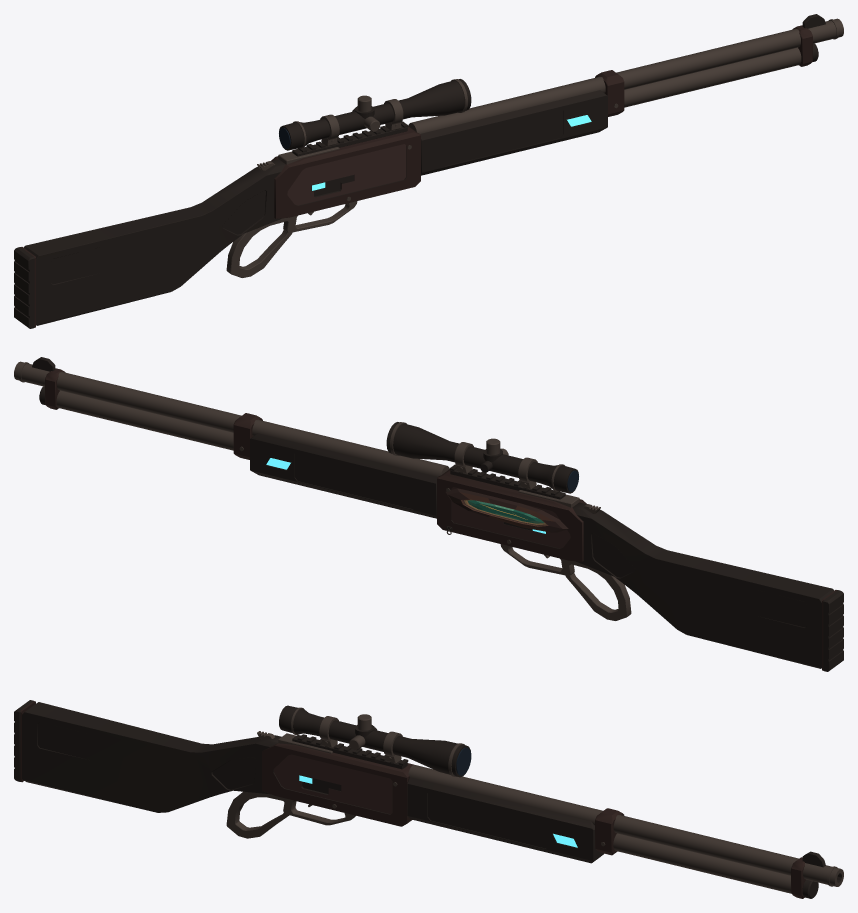
The model's file is Marshal_Rootglass_v01.fbx.
3 renders of one model, top to bottom at view 1: azimuth 30°, elevation 25°; view 2: azimuth 150°, elevation 25°; view 3: azimuth 330°, elevation 25°, orthographic.
Visible parts, largest first — view 1: Marshal_Stock, Marshal_Barrel, Marshal_Receiver, Marshal_ForeEnd, Marshal_Scope, Marshal_Lever; view 2: Marshal_Stock, Marshal_Barrel, Marshal_ForeEnd, Marshal_Receiver, Marshal_Scope, Marshal_Lever, Rootglass_Left_CarvedShell, Rootglass_Left_FacetedMineral; view 3: Marshal_Stock, Marshal_Barrel, Marshal_Receiver, Marshal_ForeEnd, Marshal_Scope, Marshal_Lever.
Boxes of the visible parts, bbox=[...] form: Marshal_Stock: bbox=[14, 159, 285, 328]; Marshal_Barrel: bbox=[408, 14, 843, 133]; Marshal_Receiver: bbox=[271, 121, 420, 218]; Marshal_ForeEnd: bbox=[420, 90, 607, 175]; Marshal_Scope: bbox=[279, 79, 471, 150]; Marshal_Lever: bbox=[226, 201, 357, 277]; Marshal_Stock: bbox=[572, 502, 843, 671]; Marshal_Barrel: bbox=[14, 357, 449, 476]; Marshal_ForeEnd: bbox=[250, 433, 437, 518]; Marshal_Receiver: bbox=[437, 464, 586, 561]; Marshal_Scope: bbox=[386, 422, 578, 493]; Marshal_Lever: bbox=[500, 544, 631, 620]; Rootglass_Left_CarvedShell: bbox=[445, 488, 568, 532]; Rootglass_Left_FacetedMineral: bbox=[467, 500, 544, 523]; Marshal_Stock: bbox=[14, 700, 281, 812]; Marshal_Barrel: bbox=[408, 765, 843, 898]; Marshal_Receiver: bbox=[262, 734, 414, 826]; Marshal_ForeEnd: bbox=[407, 777, 603, 863]; Marshal_Scope: bbox=[279, 705, 471, 777]; Marshal_Lever: bbox=[226, 791, 355, 838].
Size of the model in its own units: 444 by 77.13 by 18.8.
